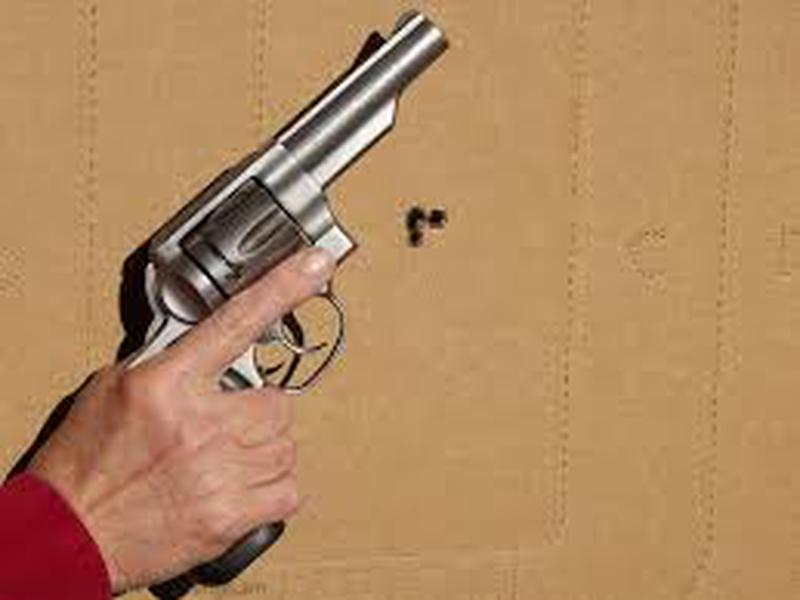Revolver: (117, 3, 464, 459)
